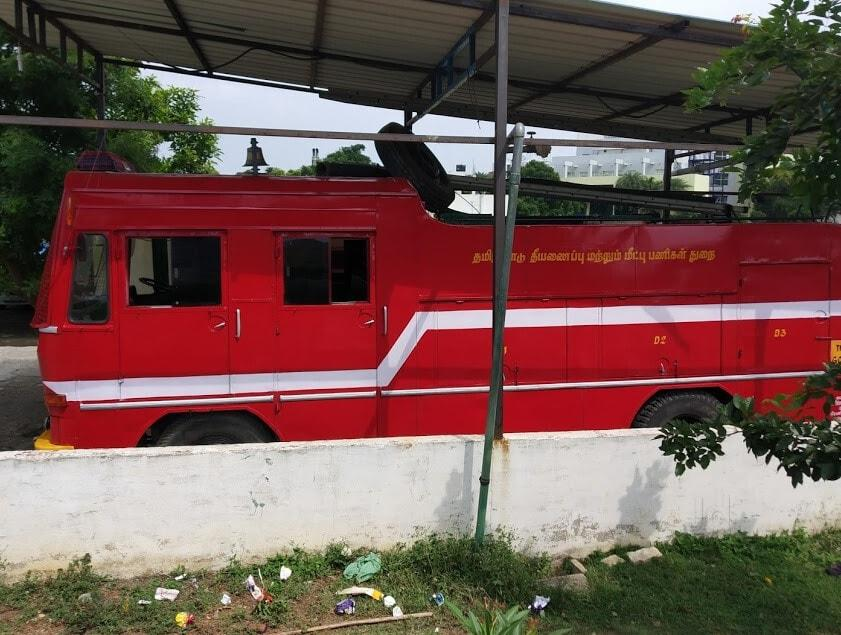Fire-engine: (37, 158, 841, 441)
